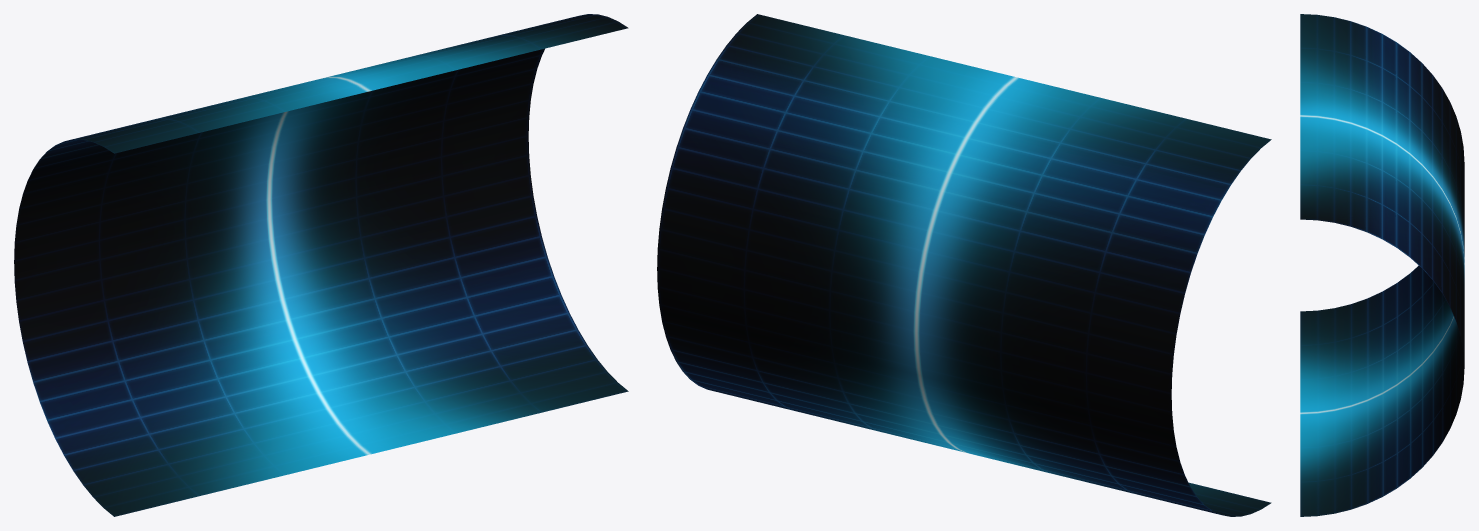
The model's file is tunnel.dae.
3 renders of one model, left to right at view 1: azimuth 30°, elevation 25°; view 2: azimuth 150°, elevation 25°; view 3: azimuth 270°, elevation 25°, orthographic. The views are drawn at different scales.
Visible parts, largest first — view 1: wall; view 2: wall; view 3: wall.
Boxes of the visible parts, x1=… form: wall: x1=14, y1=14, x2=628, y2=516; wall: x1=657, y1=14, x2=1271, y2=516; wall: x1=1300, y1=14, x2=1464, y2=516.
Bounding box in the file's own units: 36 × 12.14 × 24.29.
